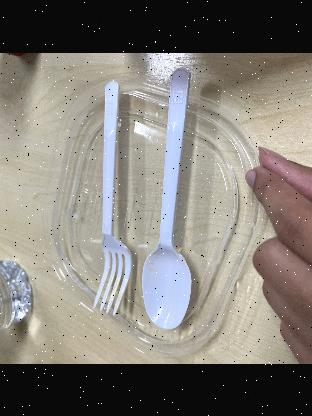Others: (136, 63, 210, 337), (84, 81, 134, 311)
